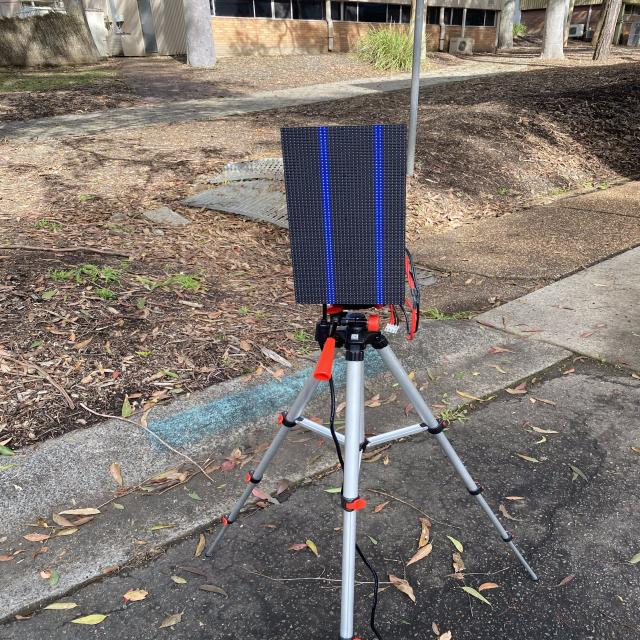matrix: (268, 116, 420, 308)
